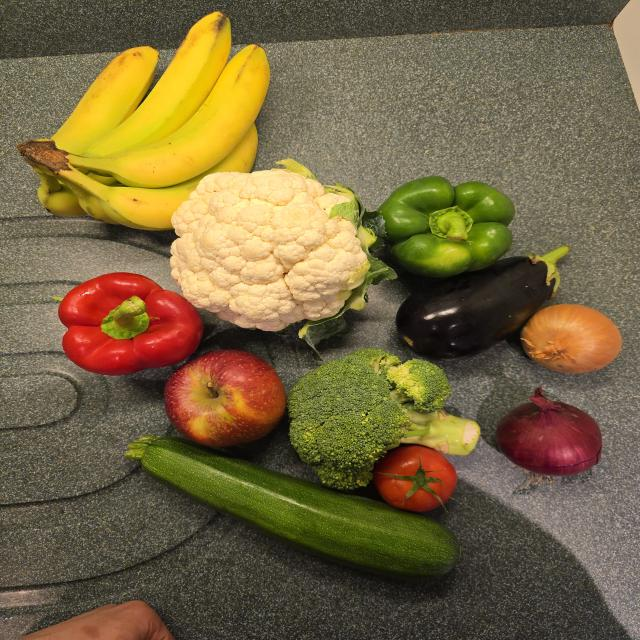Apple: (164, 350, 286, 447)
Banana: (17, 12, 270, 229)
Bell Pepper: (58, 273, 203, 375), (379, 176, 514, 277)
Broccoli: (288, 348, 480, 490)
Cauliflower: (171, 170, 396, 344)
Courgette: (126, 436, 459, 576)
Eggplant: (396, 246, 569, 359)
Onion: (496, 388, 602, 476), (520, 304, 621, 373)
Tomato: (372, 445, 457, 512)
